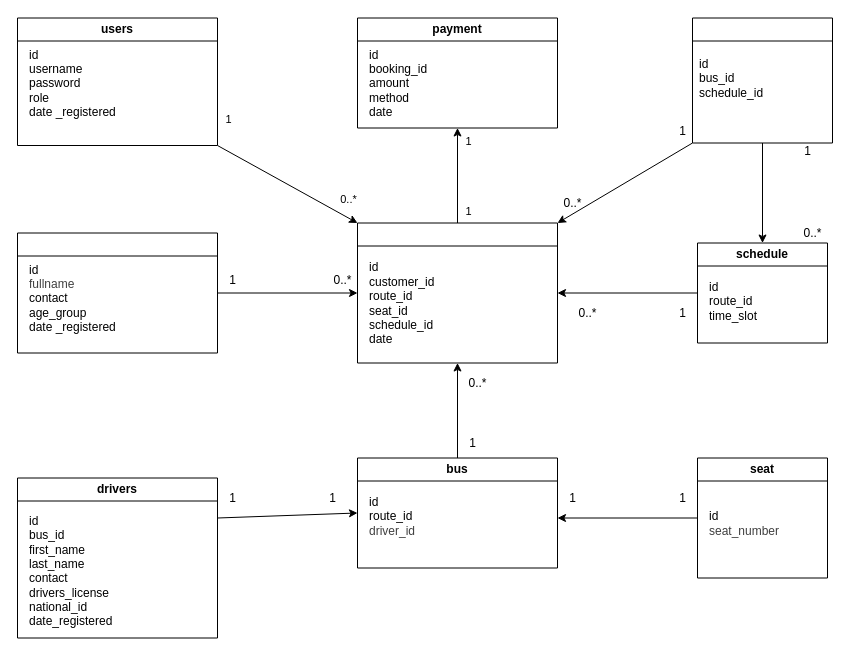
Some shapes in this 850 by 665 pixel diagram are drawn without their labels. Each missing label, with the box of its shape:
booking: (356, 222, 558, 363)
customers: (16, 232, 218, 353)
route: (692, 17, 832, 143)
